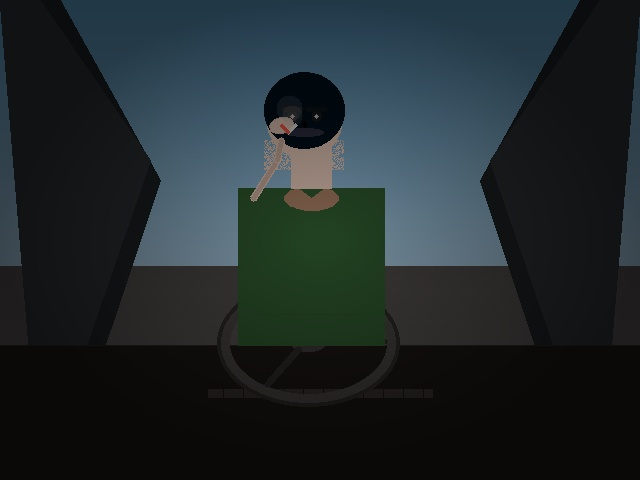smoking: (271, 110, 305, 140)
